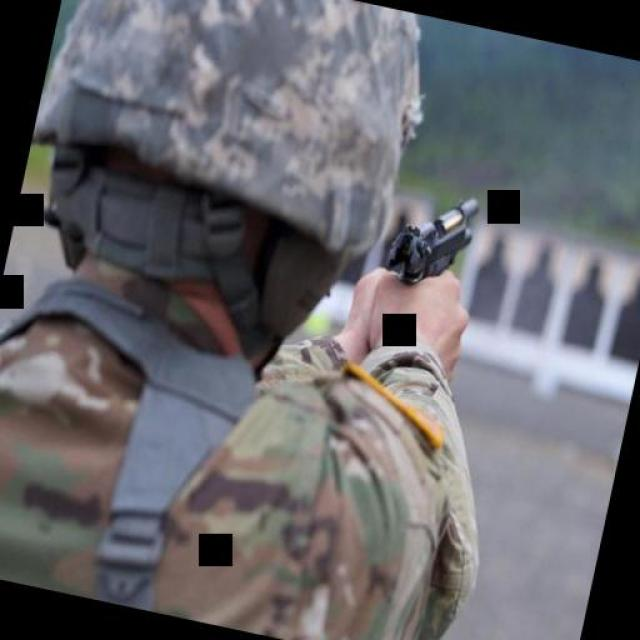gun: (378, 176, 484, 296)
